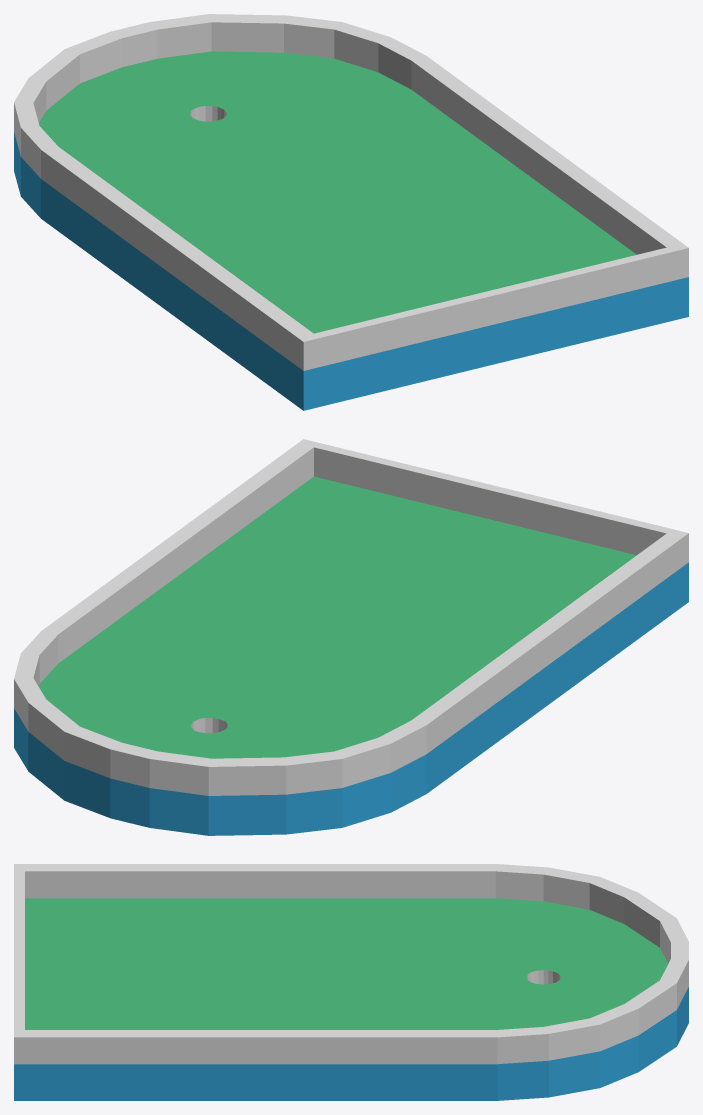
File: hole1.fbx
The picture shows the model from 3 angles, top to bottom: view 1: azimuth 30°, elevation 25°; view 2: azimuth 150°, elevation 25°; view 3: azimuth 270°, elevation 25°; orthographic projection. The views are drawn at different scales.
Visible parts, largest first — view 1: Cube; view 2: Cube; view 3: Cube.
Boxes of the visible parts, x1,y1,x2,y2 form: Cube: [14, 14, 688, 410]; Cube: [14, 439, 688, 835]; Cube: [14, 864, 688, 1100].
Bounding box in the file's own units: 649 × 111 × 1068.
